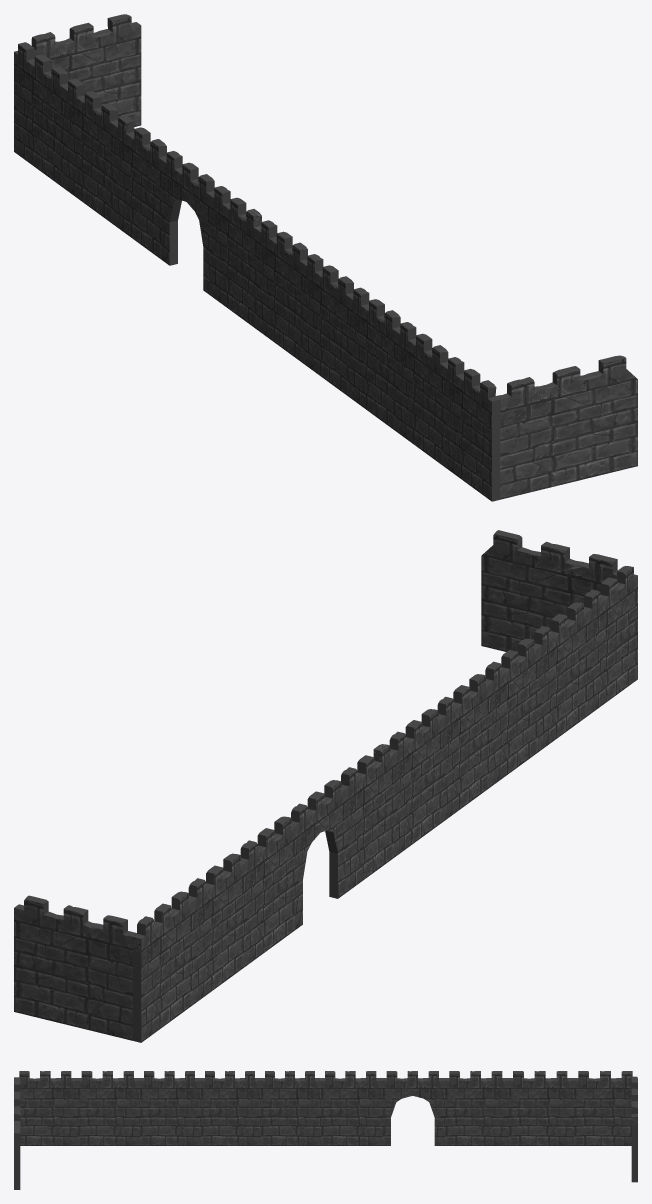
File: AntromWall.glb
3 views of the same model, one above another, from view 1: azimuth 30°, elevation 25°; view 2: azimuth 150°, elevation 25°; view 3: azimuth 270°, elevation 25° (orthographic). The views are drawn at different scales.
Visible parts, largest first — view 1: Castlewall; view 2: Castlewall; view 3: Castlewall.
Part boxes in pixels (x1,y1,x2,y2): Castlewall: (14,14,637,501); Castlewall: (14,530,637,1042); Castlewall: (14,1071,637,1189).
Size of what is drawn, in the model's own units: 8.66 by 6.29 by 49.15.
3 materials, 1 textured.
